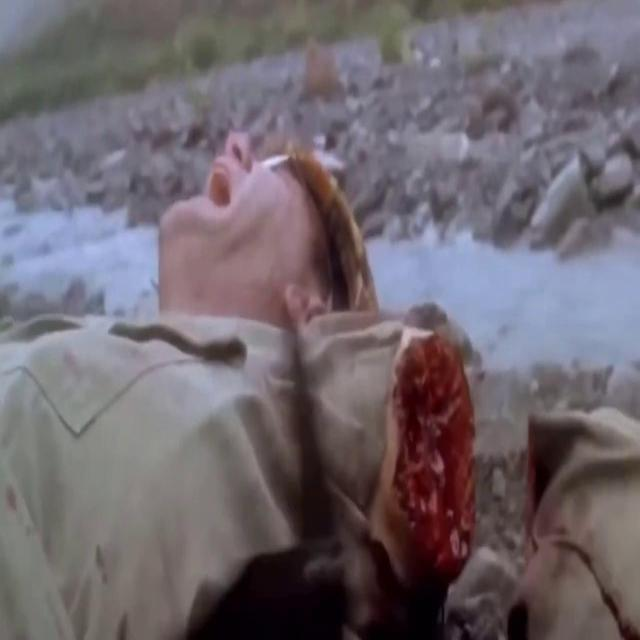flood: (374, 300, 484, 582)
